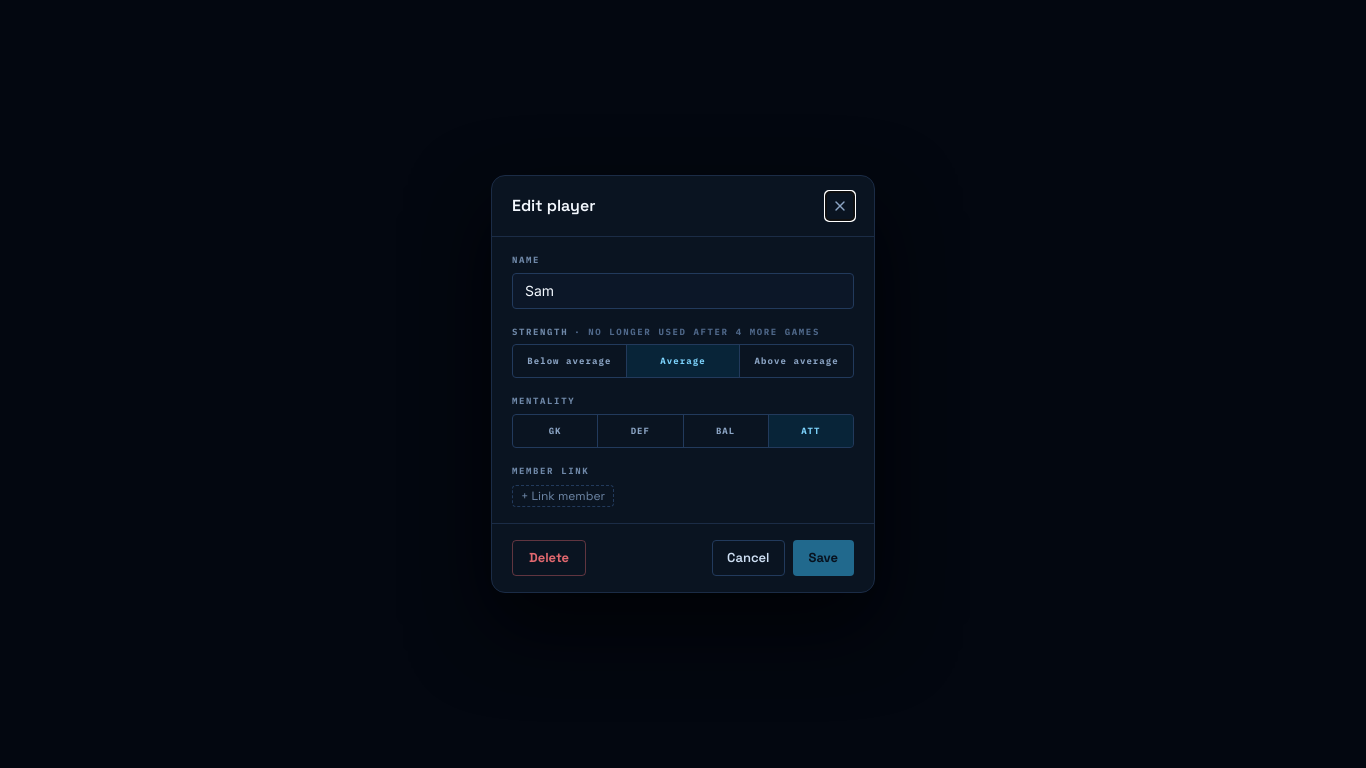
Test: EditPlayerModal › does not report an update when the first request fails
Step 1. Click the button "DEF" → point(641, 430), box left=598, top=414, right=684, bottom=446
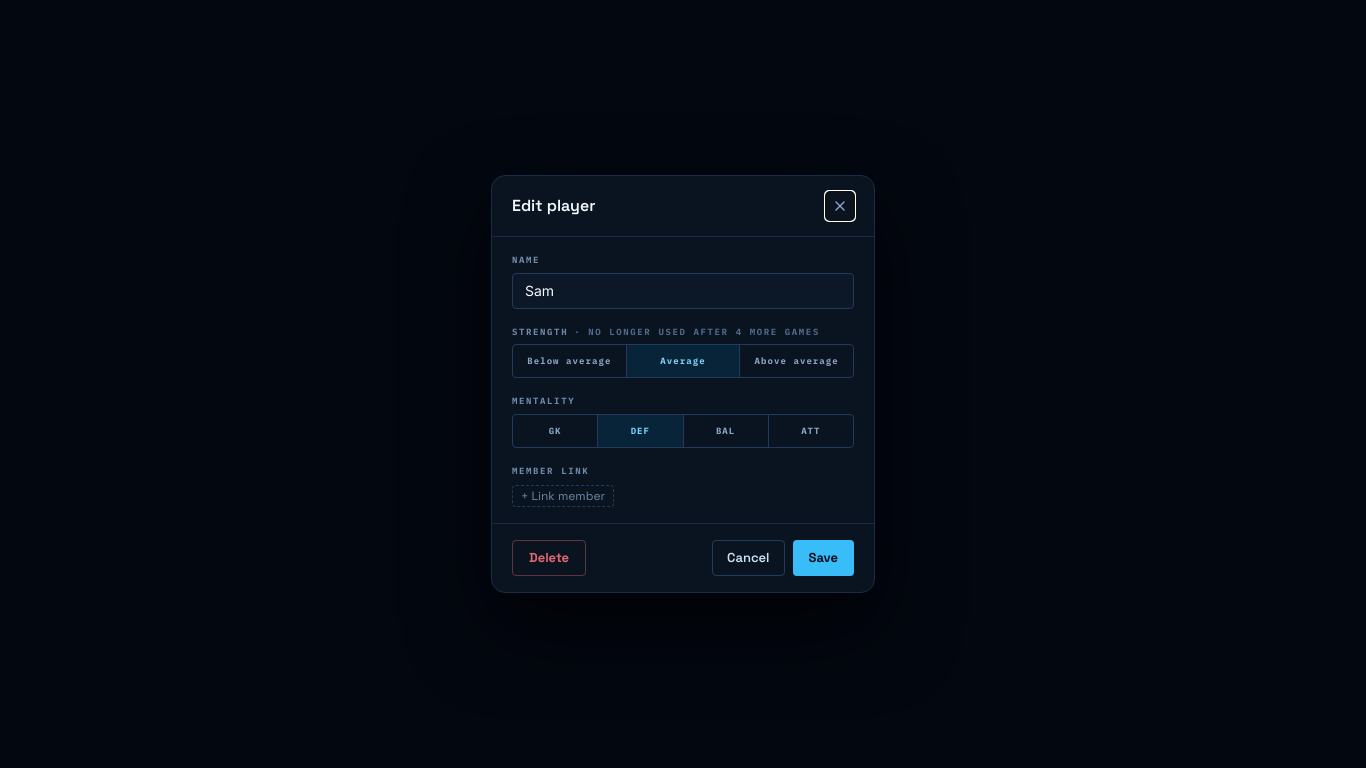
Step 2. Click the button "Save" → point(823, 558), box left=792, top=540, right=854, bottom=576
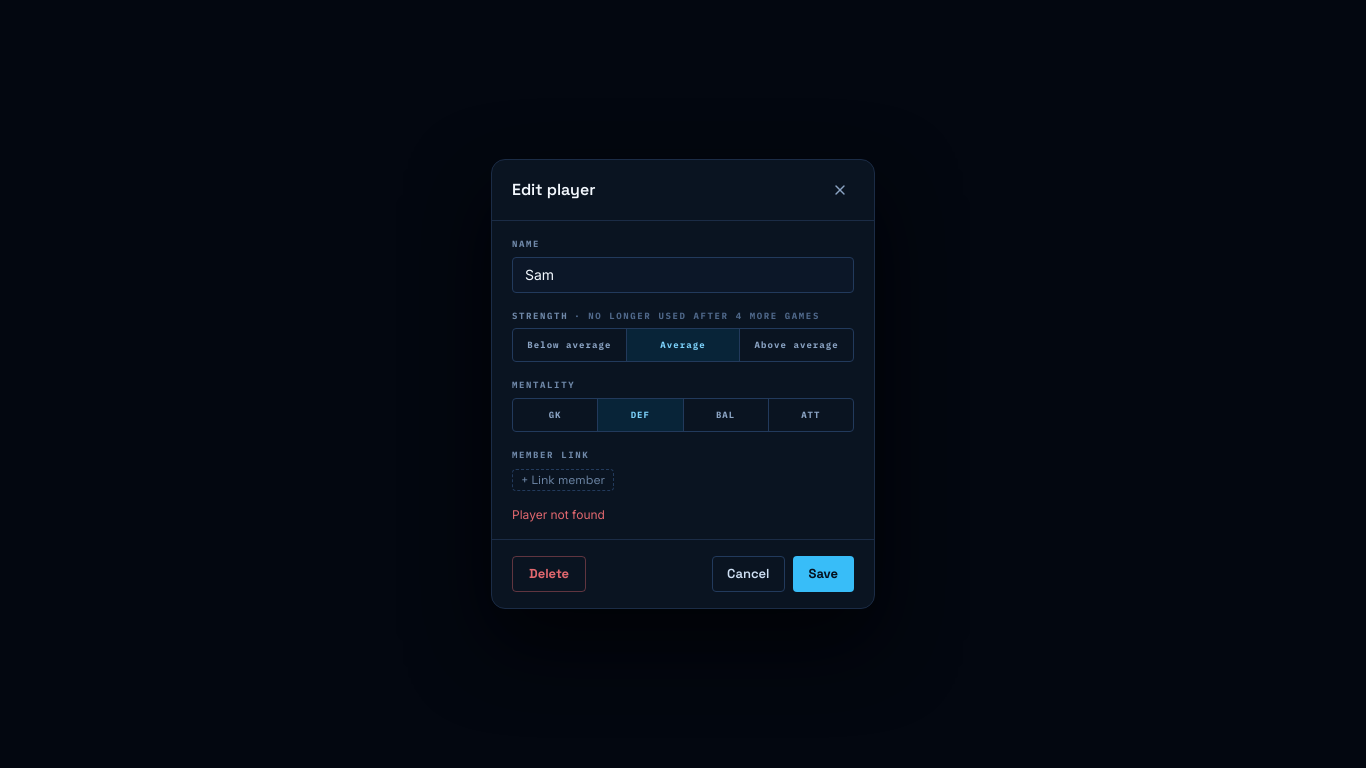
Now the text "Player not found" is shown, box left=512, top=507, right=605, bottom=522
